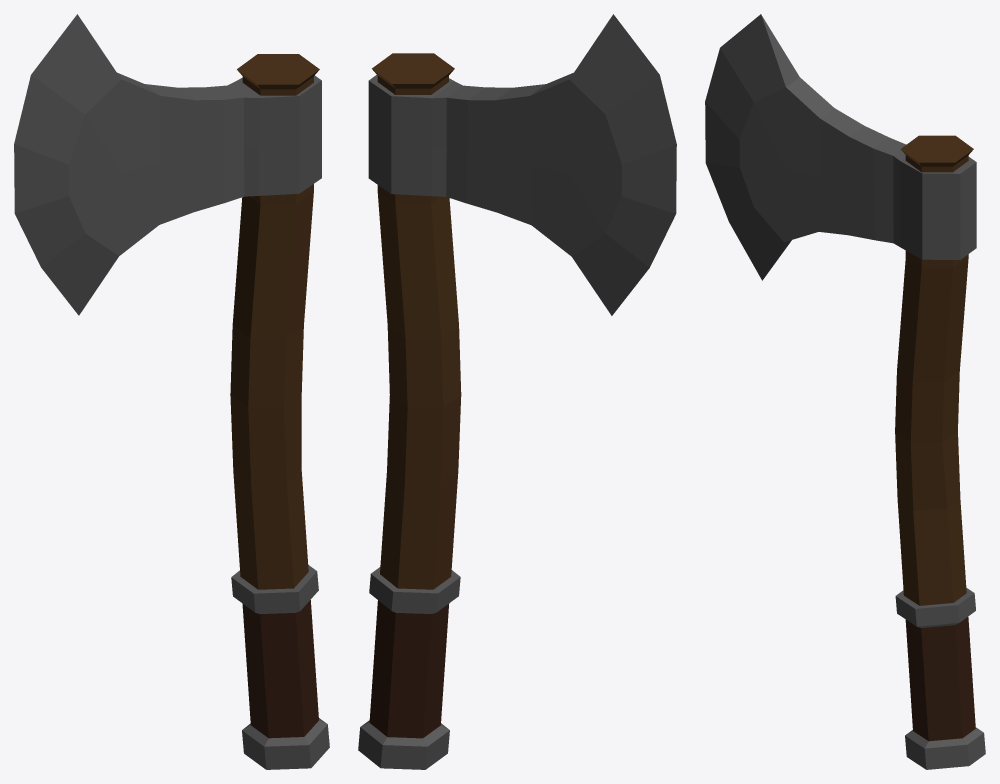
Rendered from Axe.glb.
3 views of the same model, side by side, from view 1: azimuth 30°, elevation 25°; view 2: azimuth 150°, elevation 25°; view 3: azimuth 330°, elevation 25° (orthographic). The views are drawn at different scales.
Visible parts, largest first — view 1: axe; view 2: axe; view 3: axe.
Part boxes in pixels (x1,y1,x2,y2): axe: [14, 14, 329, 769]; axe: [358, 14, 676, 769]; axe: [705, 14, 985, 769].
Size of the model in its own units: 0.3073 by 0.7544 by 0.0777.
